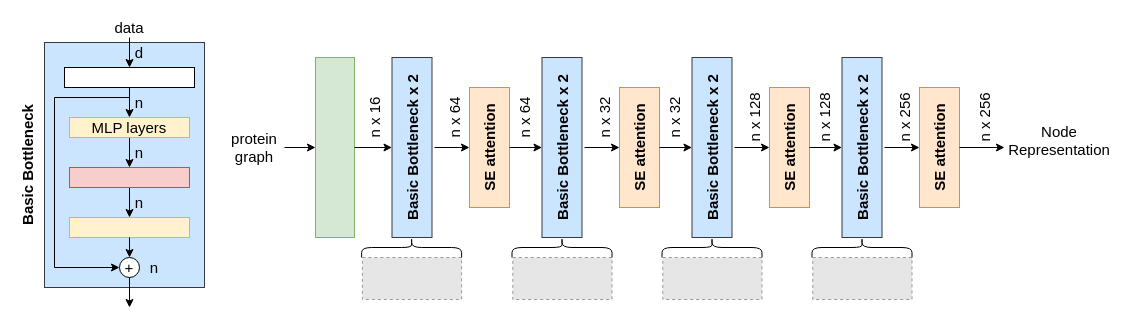
This 1132x333 diagram has some shape labels left out. Grey dashed boxes stand in for pictures. Each missing label, with the centre of its shape:
"Alignmenet layer" belongs at (x=129, y=77).
"Amino acid embedding" belongs at (x=334, y=147).
"CDConv" belongs at (x=129, y=177).
"Linear layer" belongs at (x=129, y=227).
